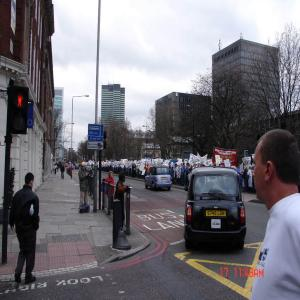Vehicle-registration-plate: (207, 211, 227, 218)
